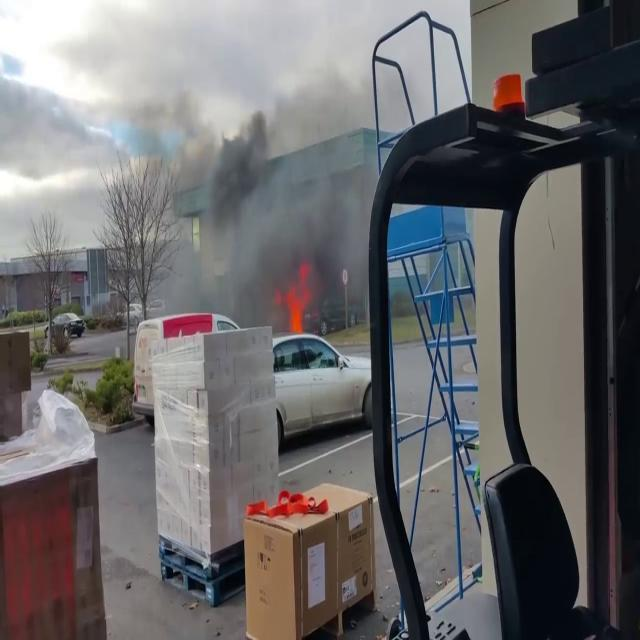Fire: (280, 260, 316, 336)
Smoke: (198, 43, 378, 320)
